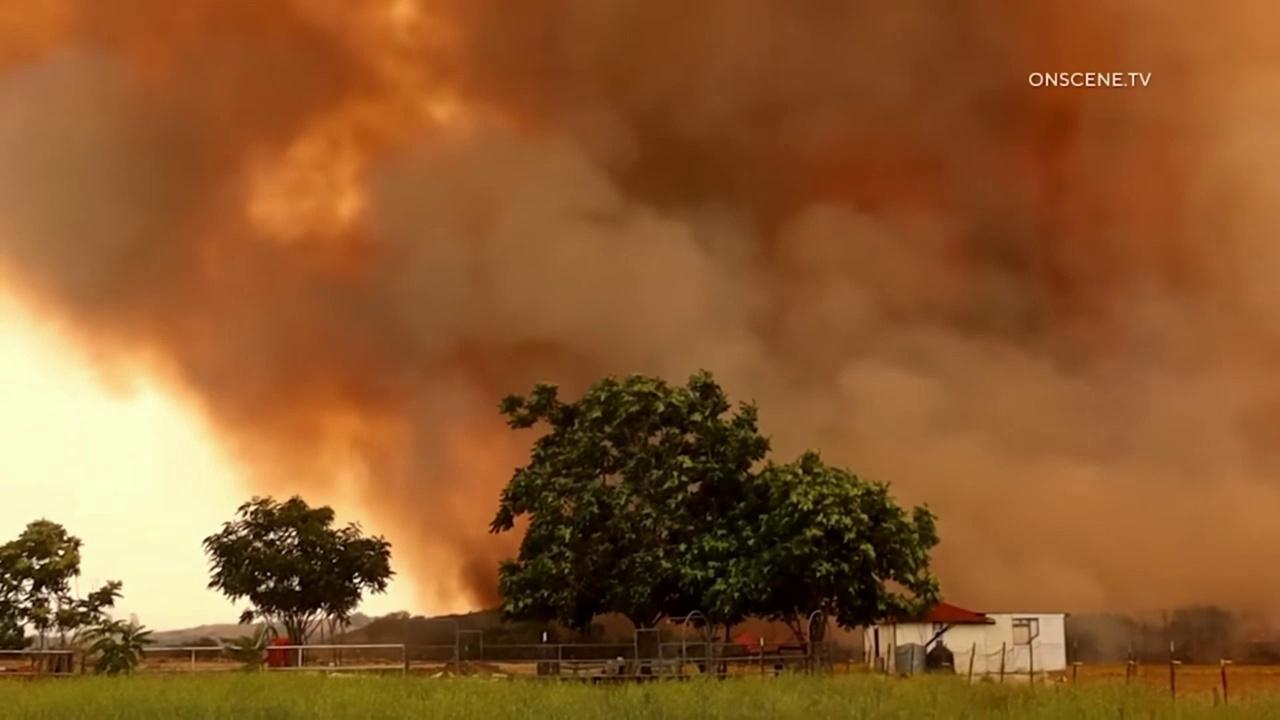fire: (735, 630, 754, 651)
smoke: (0, 0, 1280, 665)
